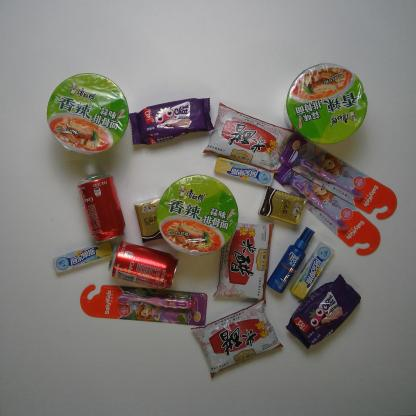Candy: (284, 240, 340, 307), (43, 235, 124, 279), (204, 144, 275, 192)
Dessert: (278, 271, 377, 356), (124, 98, 221, 152)
Drink: (98, 226, 190, 299), (68, 167, 136, 247)
Instant Noodles: (274, 41, 388, 154), (38, 59, 147, 166), (146, 165, 251, 262)
Personal Hygiene: (270, 120, 402, 224), (275, 157, 385, 262), (73, 283, 220, 332), (264, 222, 318, 299)
Seasoner: (181, 291, 300, 391), (204, 92, 300, 174), (212, 213, 275, 306)
Tissue: (122, 194, 172, 247), (252, 184, 306, 230)
